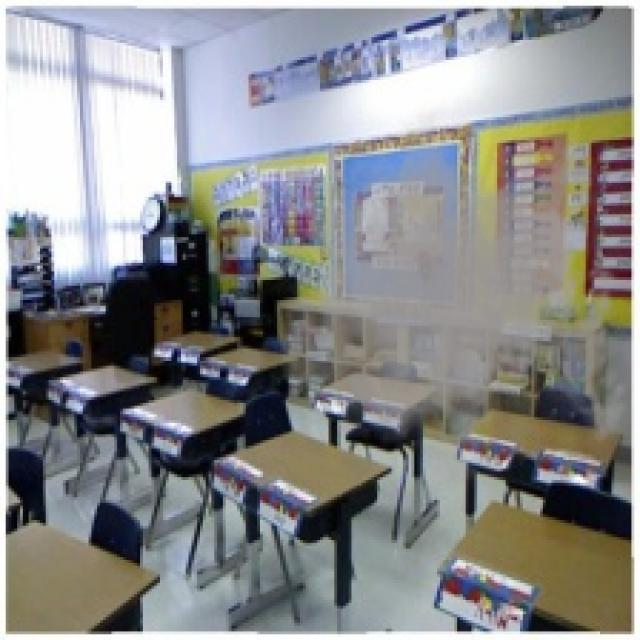Smoke: (274, 86, 637, 503)
